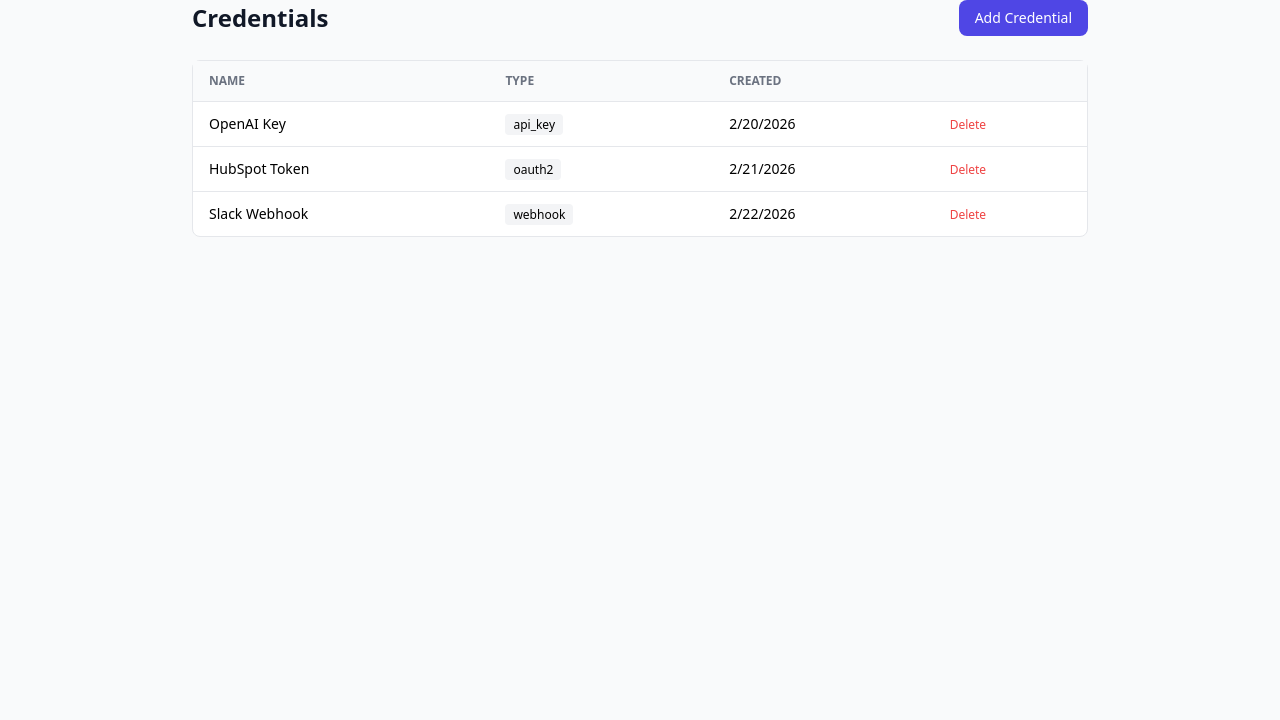
CR9: Delete credential › shows ConfirmDelete dialog when Delete clicked
This screenshot has width=1280, height=720.
Click the button "Delete" in the row of "OpenAI Key" at (968, 125), box [950,117,986,133]
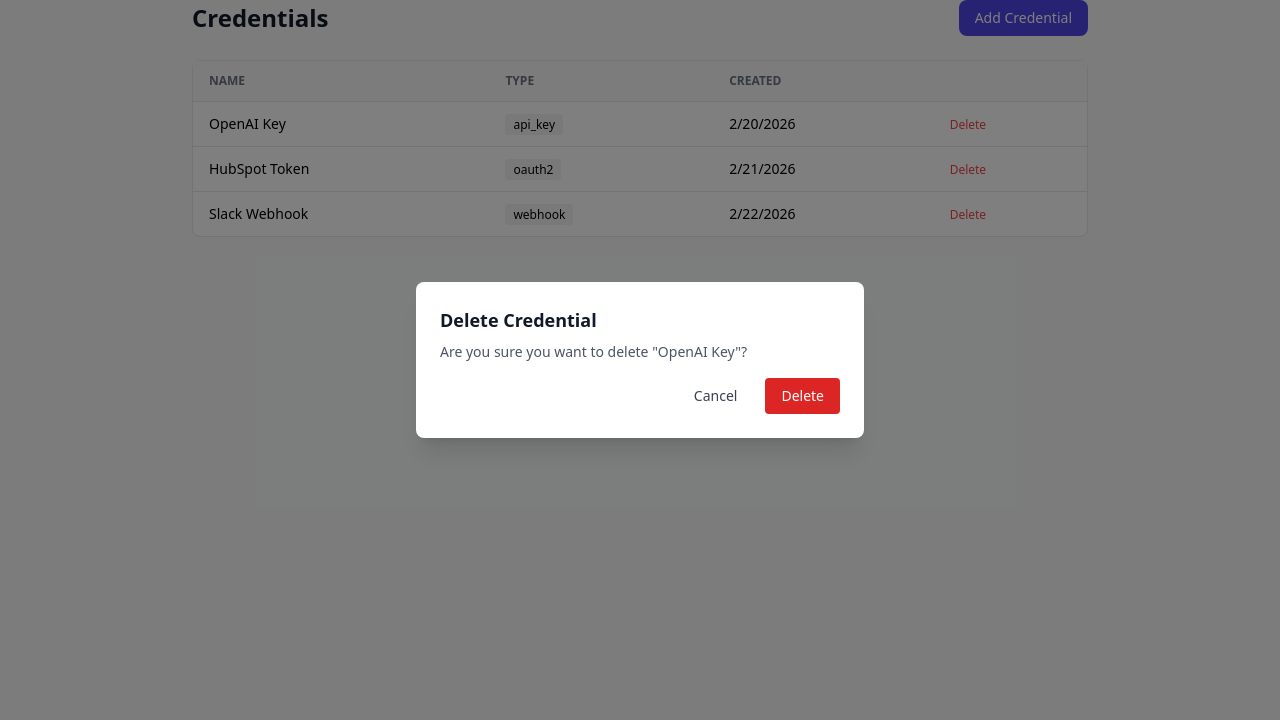
Expected: the heading "Delete Credential" is shown, [440,308,597,332]
Expected: the text "Are you sure you want to delete \"OpenAI Key\"?" is shown, [440,342,747,361]
